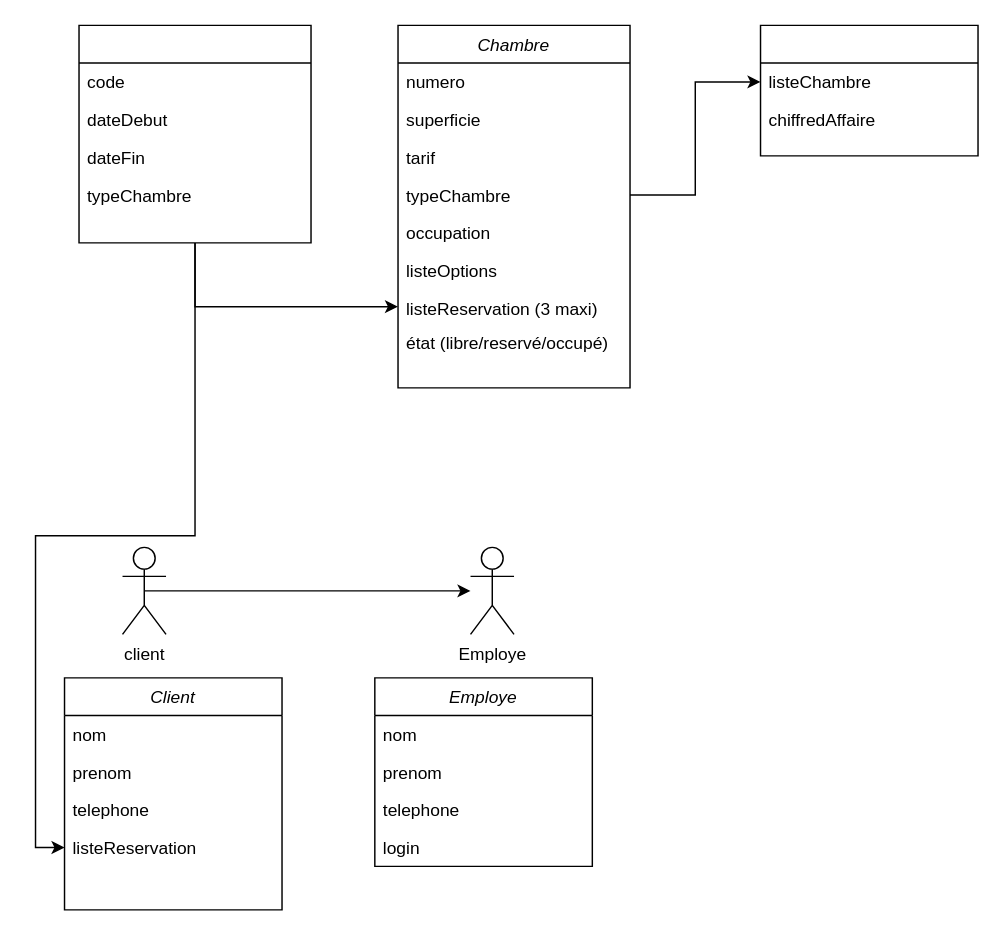
The diagram is 1003 pixels wide and 935 high, and some of its shapes have lost their labels. The box of each missing label's shape, as (x1, y1, x2, y2) in pixels:
Hotel: (759, 24, 978, 156)
Réservation: (78, 24, 311, 243)
